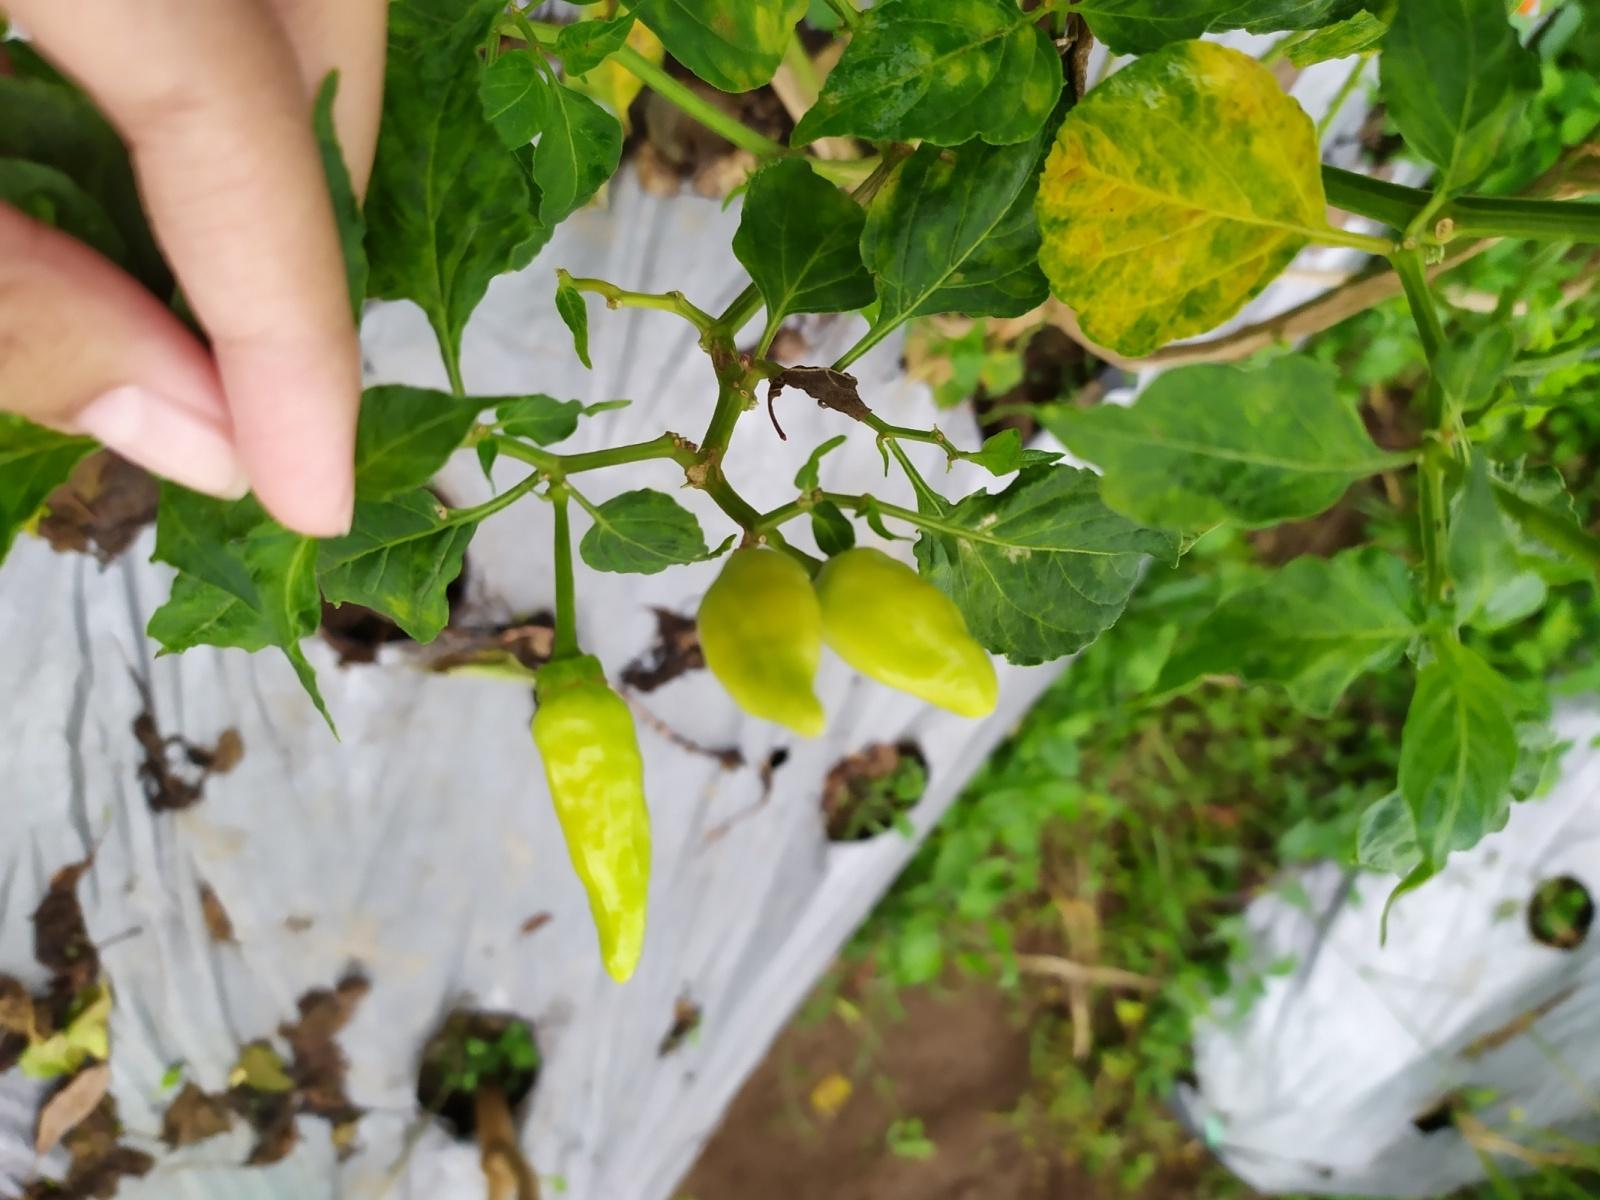cabai_normal: (527, 655, 651, 983), (811, 543, 998, 721), (695, 545, 826, 739)
